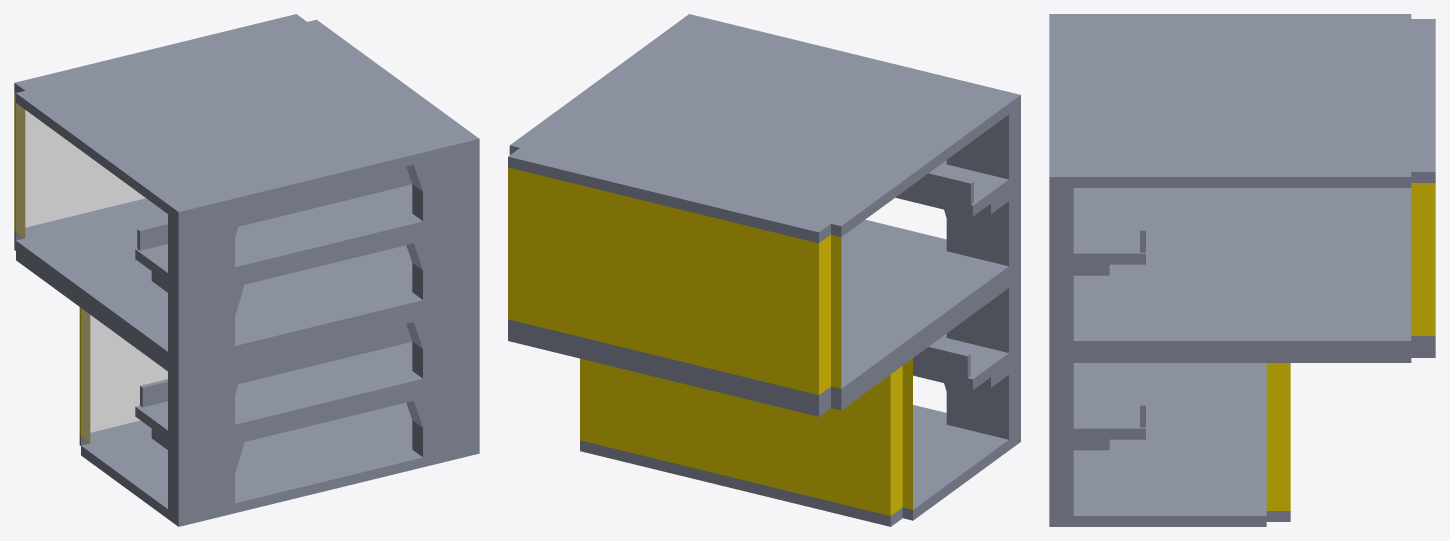
Rendered from bldg_0003_length_v01.gltf.
The picture shows the model from 3 angles, left to right: view 1: azimuth 30°, elevation 25°; view 2: azimuth 150°, elevation 25°; view 3: azimuth 270°, elevation 25°; orthographic projection. The views are drawn at different scales.
Parts seen in each view (by area): view 1: massing, windowtop, windowbottom; view 2: massing, windowtop, windowbottom; view 3: massing, windowtop, windowbottom.
Boxes of the visible parts, x1,y1,x2,y2 form: massing: [14, 14, 479, 526]; windowtop: [14, 93, 145, 240]; windowbottom: [79, 307, 167, 445]; massing: [508, 14, 1020, 526]; windowtop: [508, 167, 841, 394]; windowbottom: [580, 358, 912, 515]; massing: [1049, 14, 1435, 526]; windowtop: [1411, 183, 1435, 335]; windowbottom: [1266, 363, 1290, 510].
Size of what is drawn, in the model's own units: 16 by 16 by 16.
